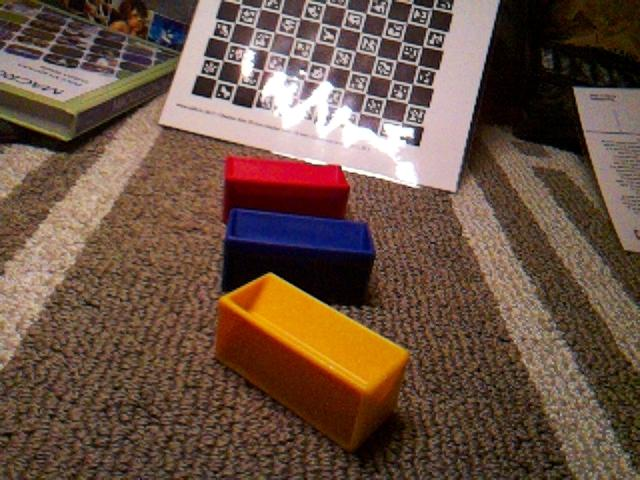blue: (220, 206, 377, 306)
red: (221, 153, 352, 222)
yellow: (213, 270, 411, 453)
